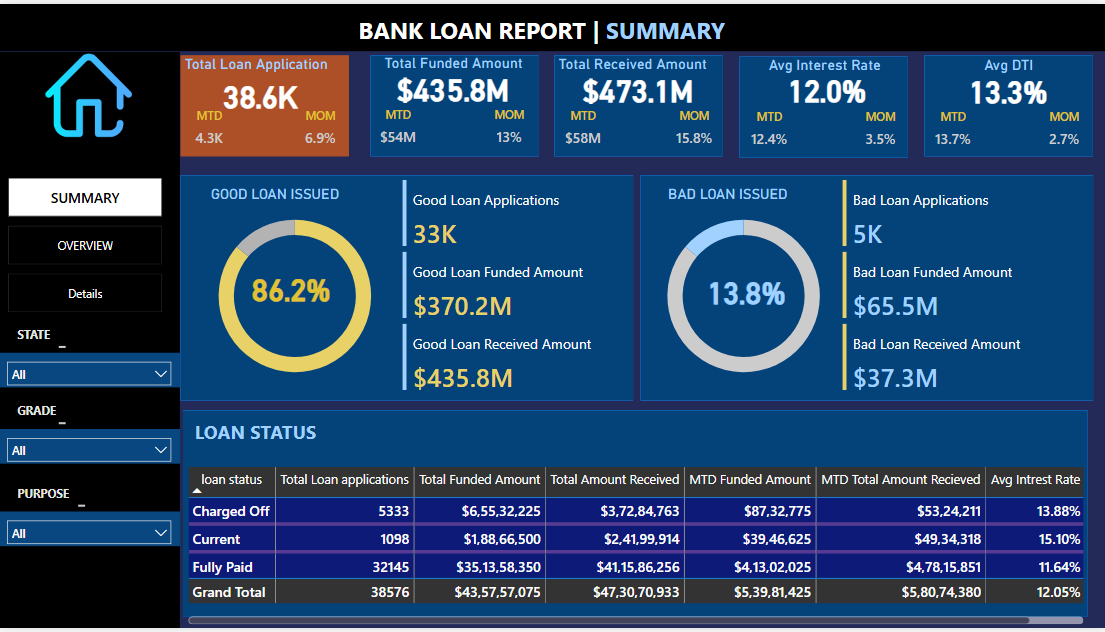

The dashboard page shown, as its layout file describes it:
{"tool":"powerbi","page":{"name":"SUMMARY","canvas":[1280,720],"ordinal":0},"visuals":[{"type":"shape","box":[0,0,1279.7,54.8],"z":0},{"type":"shape","box":[210.6,59.6,194.8,116.9],"z":0,"group":"g1"},{"type":"card","fields":{"Values":["bank_loan_data.Total Funded Amount"]},"box":[431.9,67.9,184.7,57.7],"z":0,"group":"g2"},{"type":"card","fields":{"Values":["bank_loan_data.Total Amount Received"]},"box":[646.1,69.4,184.7,57.7],"z":0,"group":"g5"},{"type":"card","fields":{"Values":["bank_loan_data.Avg Intrest Rate"]},"box":[864.2,69.6,185,57.5],"z":0,"group":"g6"},{"type":"card","fields":{"Values":["bank_loan_data.Avg DTI"]},"box":[1073.2,70.8,184.7,57.7],"z":0,"group":"g13"},{"type":"card","fields":{"Values":["bank_loan_data.Total Loan applications"]},"box":[210.9,75.1,184.7,60.6],"z":0,"group":"g4"},{"type":"shape","box":[0,54.3,210,665.7],"z":1000},{"type":"textbox","title":"Total Funded Amount","box":[427.8,57.7,194.8,27.4],"z":1000,"group":"g2"},{"type":"textbox","title":"Total Loan Application","box":[210.9,59.2,194.8,27.4],"z":1000,"group":"g4"},{"type":"textbox","title":"Total Received Amount","box":[642,59.2,194.8,27.4],"z":1000,"group":"g5"},{"type":"shape","box":[642,59.2,194.8,116.9],"z":1000,"group":"g7"},{"type":"textbox","title":"Avg DTI","box":[1069.1,60.6,194.8,27.4],"z":1000,"group":"g13"},{"type":"textbox","title":"Avg Interest Rate","box":[857.6,61.2,194.8,27.4],"z":1000,"group":"g6"},{"type":"textbox","box":[411.4,7.2,457.2,48.3],"z":2000},{"type":"card","title":"MTD","fields":{"Values":["bank_loan_data.MTD Funded Amount"]},"box":[427.8,118.3,66.4,56.3],"z":2000,"group":"g2"},{"type":"card","title":"MTD","fields":{"Values":["bank_loan_data.MTD Loan Applications"]},"box":[210.9,119.8,66.4,56.3],"z":2000,"group":"g4"},{"type":"card","title":"MTD","fields":{"Values":["bank_loan_data.MTD Total Amount Recieved"]},"box":[642,119.8,66.4,56.3],"z":2000,"group":"g5"},{"type":"card","title":"MTD","fields":{"Values":["bank_loan_data.MTD Avg DTI"]},"box":[1069.1,121.2,66.4,56.3],"z":2000,"group":"g13"},{"type":"card","title":"MTD","fields":{"Values":["bank_loan_data.MTD Avg Int Rate"]},"box":[857.6,121.8,66.4,56.3],"z":2000,"group":"g6"},{"type":"group","id":"g1","title":"Group 1","box":[210.6,59.2,194.8,118.3],"z":3000},{"type":"shape","box":[1069.1,59.2,194.8,116.9],"z":3000,"group":"g10"},{"type":"card","title":"MOM","fields":{"Values":["bank_loan_data.MOM Total funded amount"]},"box":[556.2,118.3,66.4,56.3],"z":3000,"group":"g2"},{"type":"card","title":"MOM","fields":{"Values":["bank_loan_data.MOM Loan Applications"]},"box":[339.3,119.8,66.4,56.3],"z":3000,"group":"g4"},{"type":"card","title":"MOM","fields":{"Values":["bank_loan_data.MOM Total received amount"]},"box":[770.4,119.8,66.4,56.3],"z":3000,"group":"g5"},{"type":"card","title":"MOM","fields":{"Values":["bank_loan_data.MOM Avg DTI"]},"box":[1197.5,121.2,66.4,56.3],"z":3000,"group":"g13"},{"type":"card","title":"MOM","fields":{"Values":["bank_loan_data.MOM Avg Int Rate"]},"box":[986,121.8,66.4,56.3],"z":3000,"group":"g6"},{"type":"group","id":"g2","title":"Group 2","box":[427.8,57.7,194.8,116.9],"z":3505,"group":"g8"},{"type":"group","id":"g3","title":"Group 3","box":[427.8,57.7,196.2,118.3],"z":4000},{"type":"group","id":"g4","title":"Group 2","box":[210.9,59.2,194.8,116.9],"z":4005,"group":"g1"},{"type":"group","id":"g5","title":"Group 2","box":[642,59.2,194.8,116.9],"z":4005,"group":"g11"},{"type":"group","id":"g6","title":"Group 2","box":[857.6,61.2,194.8,116.9],"z":4005,"group":"g12"},{"type":"group","id":"g7","title":"Group 4","box":[642,59.2,194.8,116.9],"z":5000},{"type":"shape","box":[429.2,59.1,194.8,116.9],"z":5500,"group":"g3"},{"type":"group","id":"g8","title":"Group 1","box":[427.8,57.7,194.8,116.9],"z":6000,"group":"g3"},{"type":"group","id":"g9","title":"Group 5","box":[856.2,61.2,196.2,116.9],"z":6000},{"type":"group","id":"g10","title":"Group 6","box":[1069.1,59.2,194.8,118.3],"z":7000},{"type":"shape","box":[856.2,61.2,194.8,116.9],"z":8000,"group":"g9"},{"type":"shape","box":[211.2,197.5,522.5,260],"z":8000},{"type":"group","id":"g11","title":"Group 1","box":[642,59.2,194.8,116.9],"z":9000,"group":"g7"},{"type":"shape","box":[741.6,197.7,522.3,259.7],"z":9000},{"type":"group","id":"g12","title":"Group 1","box":[857.6,61.2,194.8,116.9],"z":10000,"group":"g9"},{"type":"textbox","title":"GOOD LOAN ISSUED","box":[217.5,208.8,203.8,27.5],"z":10000},{"type":"group","id":"g13","title":"Group 2","box":[1069.1,60.6,194.8,116.9],"z":11000,"group":"g10"},{"type":"donutChart","fields":{"Category":["bank_loan_data.Good v Bad Loan"],"Y":["bank_loan_data.Total Loan applications"]},"box":[217.5,222.5,250,230],"z":11000},{"type":"card","fields":{"Values":["bank_loan_data.Good Loan %"]},"box":[277.5,298.8,122.5,58.8],"z":12000},{"type":"cardVisual","fields":{"Data":["bank_loan_data.Good Loan Applications","bank_loan_data.Good Loan Funded Amount","bank_loan_data.Good Loan Received  Amount"]},"box":[461.4,197.1,272.9,255.7],"z":13000},{"type":"donutChart","fields":{"Category":["bank_loan_data.Good v Bad Loan"],"Y":["bank_loan_data.Total Loan applications"]},"box":[735.7,222.9,250,230],"z":14000},{"type":"textbox","title":"BAD LOAN ISSUED","box":[740,208.6,204.3,27.1],"z":15000},{"type":"card","fields":{"Values":["bank_loan_data.Bad Loan %"]},"box":[802.9,301.4,122.9,58.6],"z":16000},{"type":"cardVisual","fields":{"Data":["bank_loan_data.Bad Loan Applications","bank_loan_data.Bad Loan Funded Amount","bank_loan_data.Bad Loan Received  Amount"]},"box":[970,197.1,287.1,255.7],"z":17000},{"type":"shape","box":[212.9,468.6,1044.3,238.6],"z":18000},{"type":"tableEx","fields":{"Values":["bank_loan_data.loan_status","bank_loan_data.Total Loan applications","bank_loan_data.Total Funded Amount","bank_loan_data.Total Amount Received","bank_loan_data.MTD Funded Amount","bank_loan_data.MTD Total Amount Recieved","bank_loan_data.Avg Intrest Rate","bank_loan_data.Avg DTI"]},"box":[212.9,530,1044.3,191.4],"z":19000},{"type":"textbox","title":"LOAN STATUS","box":[222.9,478.6,194.3,27.1],"z":20000},{"type":"slicer","fields":{"Values":["bank_loan_data.purpose"]},"box":[0,585.7,210,40],"z":21000},{"type":"textbox","title":"STATE","box":[17.1,372.9,65.7,30],"z":22000},{"type":"slicer","fields":{"Values":["bank_loan_data.address_state"]},"box":[0,402.9,210,40],"z":23000},{"type":"textbox","title":"GRADE","box":[17.1,460,65.7,30],"z":24000},{"type":"slicer","fields":{"Values":["bank_loan_data.grade"]},"box":[0,490,210,40],"z":25000},{"type":"textbox","title":"PURPOSE","box":[17.1,555.7,88.6,30],"z":26000},{"type":"image","box":[49.1,50.5,111.1,109.6],"z":27000},{"type":"pageNavigator","box":[11.5,200.5,178.9,157.3],"z":28000}]}

Visuals, with their boxes in screenshot pixels (x1, y1, x2, y2), scaled from the page's 1280x720 canvas onto the 1105x632 screenshot:
shape: rect(0, 0, 1104, 48)
shape: rect(182, 52, 350, 155)
card - bank_loan_data.Total Funded Amount: rect(373, 60, 532, 110)
card - bank_loan_data.Total Amount Received: rect(558, 61, 717, 112)
card - bank_loan_data.Avg Intrest Rate: rect(746, 61, 906, 112)
card - bank_loan_data.Avg DTI: rect(926, 62, 1086, 113)
card - bank_loan_data.Total Loan applications: rect(182, 66, 342, 119)
shape: rect(0, 48, 181, 631)
"Total Funded Amount" textbox: rect(369, 51, 537, 75)
"Total Loan Application" textbox: rect(182, 52, 350, 76)
"Total Received Amount" textbox: rect(554, 52, 722, 76)
shape: rect(554, 52, 722, 155)
"Avg DTI" textbox: rect(923, 53, 1091, 77)
"Avg Interest Rate" textbox: rect(740, 54, 909, 78)
textbox: rect(355, 6, 750, 49)
"MTD" card: rect(369, 104, 427, 153)
"MTD" card: rect(182, 105, 239, 155)
"MTD" card: rect(554, 105, 612, 155)
"MTD" card: rect(923, 106, 980, 156)
"MTD" card: rect(740, 107, 798, 156)
"Group 1" group: rect(182, 52, 350, 156)
shape: rect(923, 52, 1091, 155)
"MOM" card: rect(480, 104, 537, 153)
"MOM" card: rect(293, 105, 350, 155)
"MOM" card: rect(665, 105, 722, 155)
"MOM" card: rect(1034, 106, 1091, 156)
"MOM" card: rect(851, 107, 909, 156)
"Group 2" group: rect(369, 51, 537, 153)
"Group 3" group: rect(369, 51, 539, 154)
"Group 2" group: rect(182, 52, 350, 155)
"Group 2" group: rect(554, 52, 722, 155)
"Group 2" group: rect(740, 54, 909, 156)
"Group 4" group: rect(554, 52, 722, 155)
shape: rect(371, 52, 539, 154)
"Group 1" group: rect(369, 51, 537, 153)
"Group 5" group: rect(739, 54, 909, 156)
"Group 6" group: rect(923, 52, 1091, 156)
shape: rect(739, 54, 907, 156)
shape: rect(182, 173, 633, 402)
"Group 1" group: rect(554, 52, 722, 155)
shape: rect(640, 174, 1091, 401)
"Group 1" group: rect(740, 54, 909, 156)
"GOOD LOAN ISSUED" textbox: rect(188, 183, 364, 207)
"Group 2" group: rect(923, 53, 1091, 156)
donutChart - bank_loan_data.Good v Bad Loan x bank_loan_data.Total Loan applications: rect(188, 195, 404, 397)
card - bank_loan_data.Good Loan %: rect(240, 262, 345, 314)
cardVisual - bank_loan_data.Good Loan Applications x bank_loan_data.Good Loan Funded Amount: rect(398, 173, 634, 397)
donutChart - bank_loan_data.Good v Bad Loan x bank_loan_data.Total Loan applications: rect(635, 196, 851, 398)
"BAD LOAN ISSUED" textbox: rect(639, 183, 815, 207)
card - bank_loan_data.Bad Loan %: rect(693, 265, 799, 316)
cardVisual - bank_loan_data.Bad Loan Applications x bank_loan_data.Bad Loan Funded Amount: rect(837, 173, 1085, 397)
shape: rect(184, 411, 1085, 621)
tableEx - bank_loan_data.loan_status x bank_loan_data.Total Loan applications: rect(184, 465, 1085, 631)
"LOAN STATUS" textbox: rect(192, 420, 360, 444)
slicer - bank_loan_data.purpose: rect(0, 514, 181, 549)
"STATE" textbox: rect(15, 327, 71, 354)
slicer - bank_loan_data.address_state: rect(0, 354, 181, 389)
"GRADE" textbox: rect(15, 404, 71, 430)
slicer - bank_loan_data.grade: rect(0, 430, 181, 465)
"PURPOSE" textbox: rect(15, 488, 91, 514)
image: rect(42, 44, 138, 141)
pageNavigator: rect(10, 176, 164, 314)
